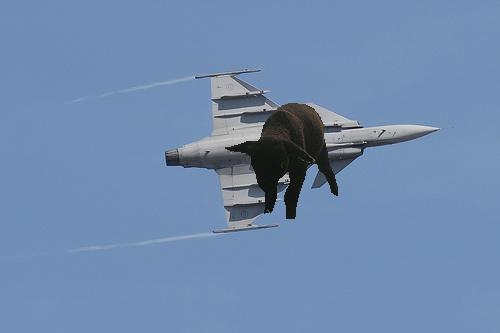tampered: (226, 104, 338, 219)
